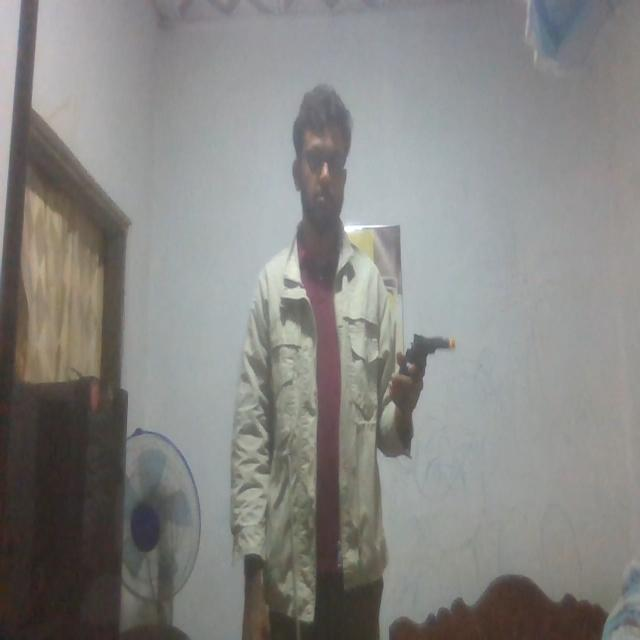Gun_Holder: (396, 321, 461, 403)
Jacket_Wearer: (227, 228, 417, 586)
Person: (227, 84, 427, 640)
